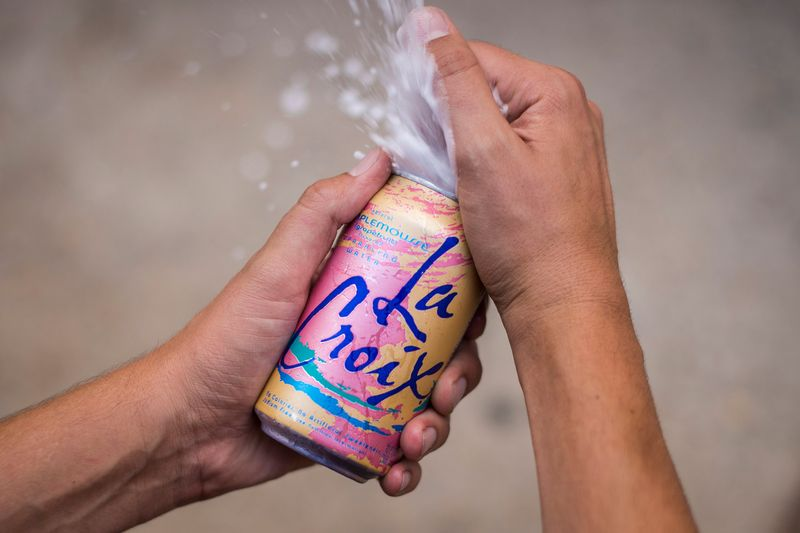can: (251, 167, 527, 488)
